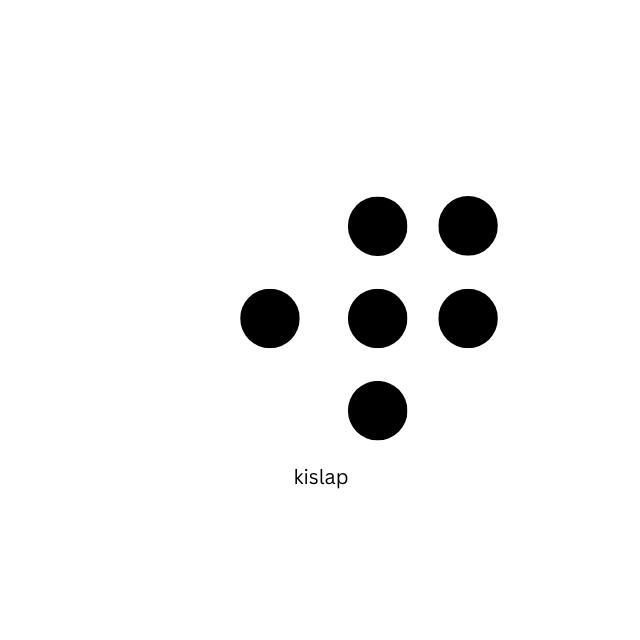dot_5: (149, 194, 302, 443)
two_cell_alphabet_kislap: (347, 193, 500, 442)
